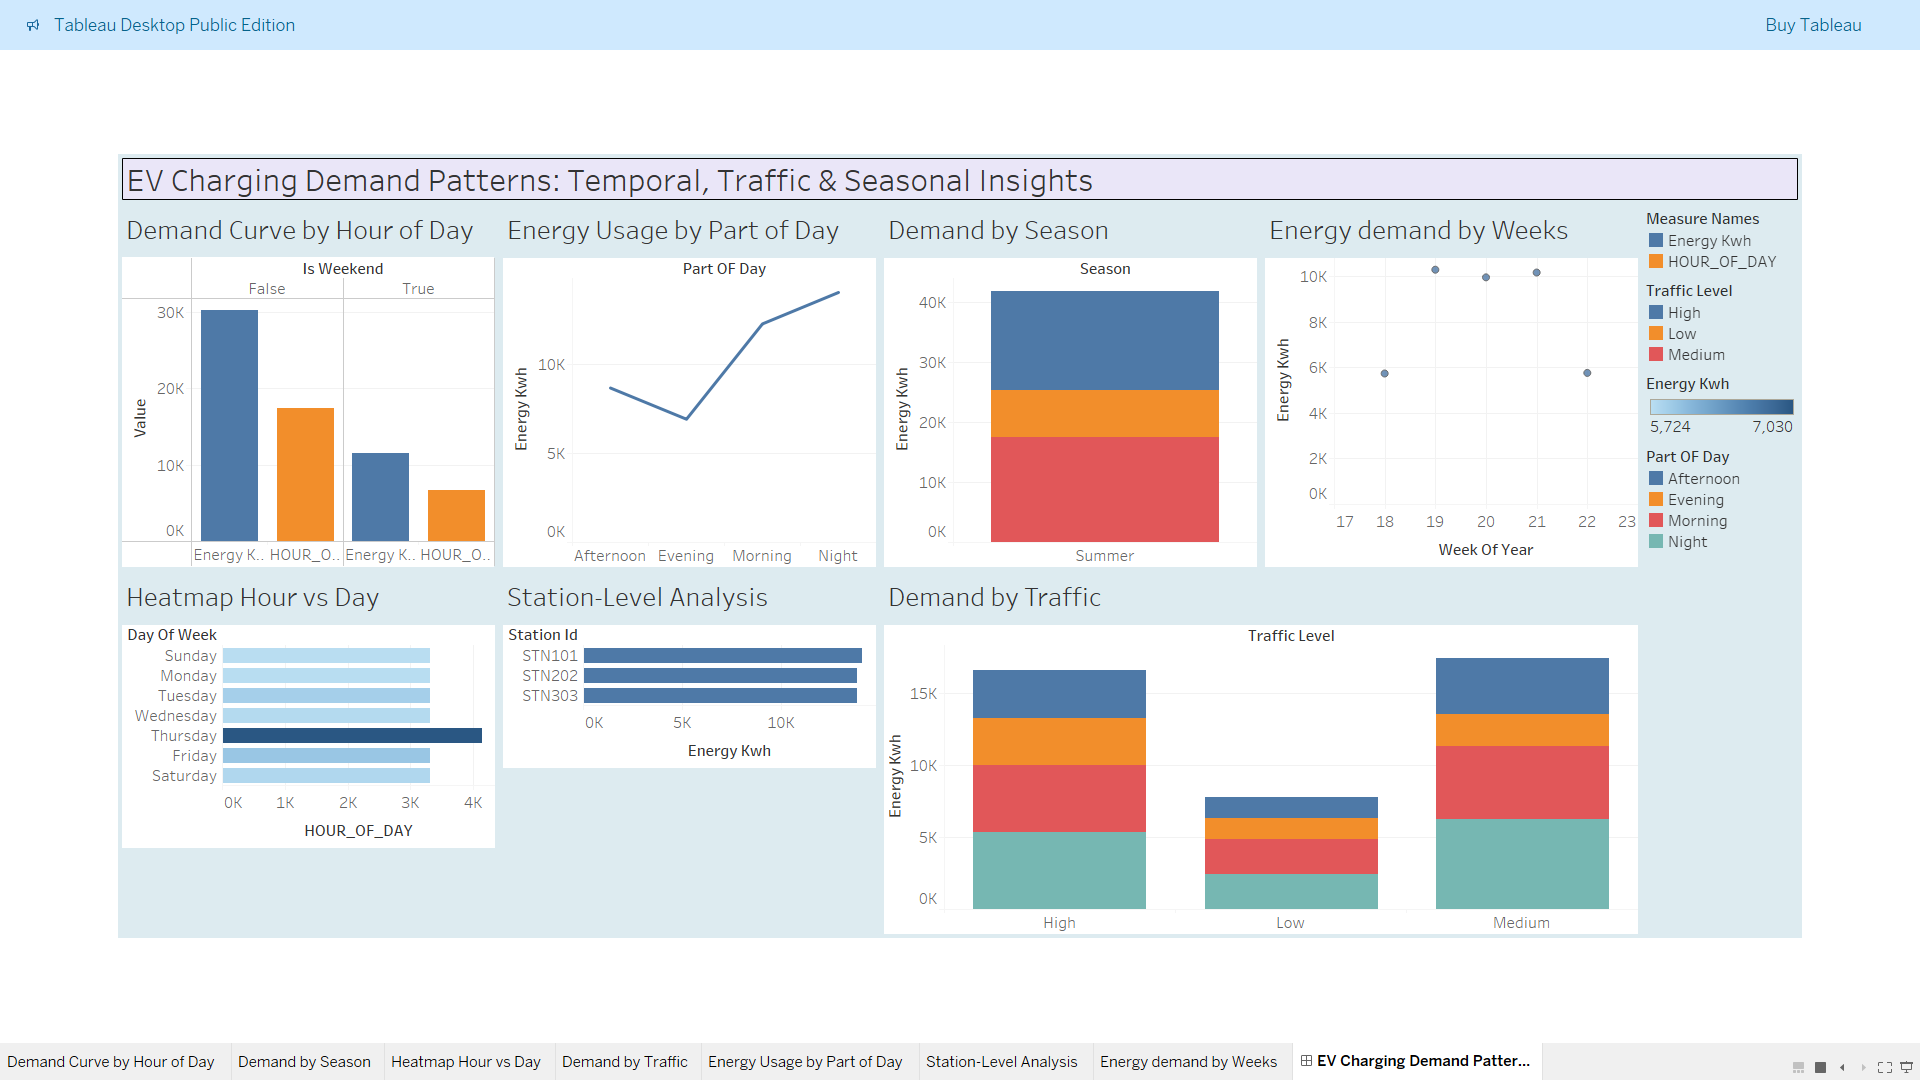

The dashboard page shown, as its layout file describes it:
{"tool":"tableau","page":{"name":"EV Charging Demand Patterns: Temporal, Traffic & Seasonal Insights","canvas":[1000,1000],"units":"permille","ordinal":0},"visuals":[{"type":"title","box":[4.7,10,990.6,62.4]},{"type":"worksheet","title":"Demand Curve by Hour of Day","mark":"Automatic","cols":["is_weekend"],"box":[4.7,72.4,224.1,458.6]},{"type":"worksheet","title":"Energy Usage by Part of Day","mark":"Line","rows":["energy_kwh"],"cols":["Calculation_686798964913094658"],"box":[228.8,72.4,224.3,458.6]},{"type":"worksheet","title":"Demand by Season","mark":"Automatic","rows":["energy_kwh"],"cols":["season"],"box":[453,72.4,224.2,458.6]},{"type":"worksheet","title":"Energy demand by Weeks","mark":"Multipolygon","rows":["energy_kwh"],"cols":["week_of_year"],"box":[677.3,72.4,224.3,458.6]},{"type":"legend","title":"Demand Curve by Hour of Day","param":"[federated.0q94nzo1psq3zo1d7472114z8nqm].[:Measure Names]","box":[901.6,72.4,93.7,89.9]},{"type":"legend","title":"Demand by Season","param":"[federated.0q94nzo1psq3zo1d7472114z8nqm].[none:traffic_level:nk]","box":[901.6,162.3,93.7,116.1]},{"type":"legend","title":"Heatmap Hour vs Day","param":"[federated.0q94nzo1psq3zo1d7472114z8nqm].[sum:energy_kwh:qk]","box":[901.6,278.4,93.7,91.1]},{"type":"legend","title":"Demand by Traffic","param":"[federated.0q94nzo1psq3zo1d7472114z8nqm].[none:Calculation_686798964913094658:nk","box":[901.6,369.6,93.7,142.3]},{"type":"worksheet","title":"Heatmap Hour vs Day","mark":"Automatic","rows":["day_of_week"],"cols":["Calculation_686798964913778695"],"box":[4.7,531,224.1,459]},{"type":"worksheet","title":"Station-Level Analysis","mark":"Automatic","rows":["station_id"],"cols":["energy_kwh"],"box":[228.8,531,224.3,459]},{"type":"worksheet","title":"Demand by Traffic","mark":"Automatic","rows":["energy_kwh"],"cols":["traffic_level"],"box":[453,531,448.6,459]}]}

Visuals, with their boxes on the dashboard's canvas, which has no fixed pixel size, in thousandths of its width and height (x1, y1, x2, y2). These are canvas units, not pixel positions in the 1920x1080 screenshot, which may show the page scaled, cropped or inside an application window:
title: <bbox>5, 10, 995, 72</bbox>
"Demand Curve by Hour of Day" worksheet: <bbox>5, 72, 229, 531</bbox>
"Energy Usage by Part of Day" worksheet (Line marks): <bbox>229, 72, 453, 531</bbox>
"Demand by Season" worksheet: <bbox>453, 72, 677, 531</bbox>
"Energy demand by Weeks" worksheet (Multipolygon marks): <bbox>677, 72, 902, 531</bbox>
"Demand Curve by Hour of Day" legend: <bbox>902, 72, 995, 162</bbox>
"Demand by Season" legend: <bbox>902, 162, 995, 278</bbox>
"Heatmap Hour vs Day" legend: <bbox>902, 278, 995, 370</bbox>
"Demand by Traffic" legend: <bbox>902, 370, 995, 512</bbox>
"Heatmap Hour vs Day" worksheet: <bbox>5, 531, 229, 990</bbox>
"Station-Level Analysis" worksheet: <bbox>229, 531, 453, 990</bbox>
"Demand by Traffic" worksheet: <bbox>453, 531, 902, 990</bbox>
